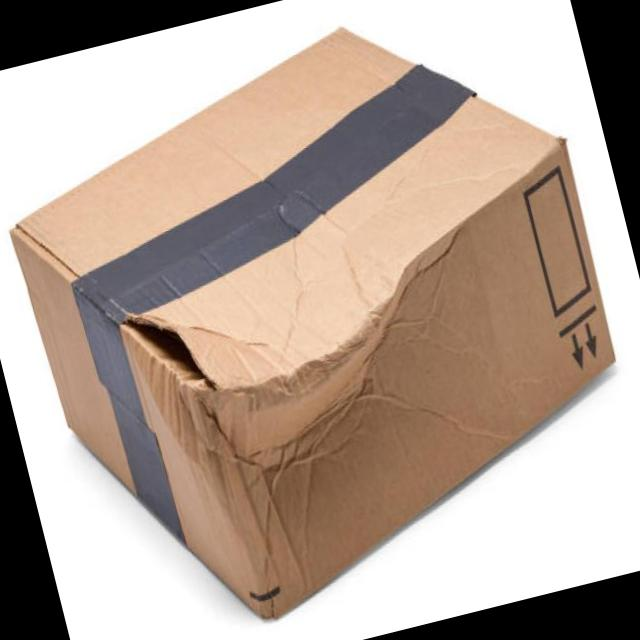box: (25, 14, 598, 640)
opened: (25, 15, 562, 212)
